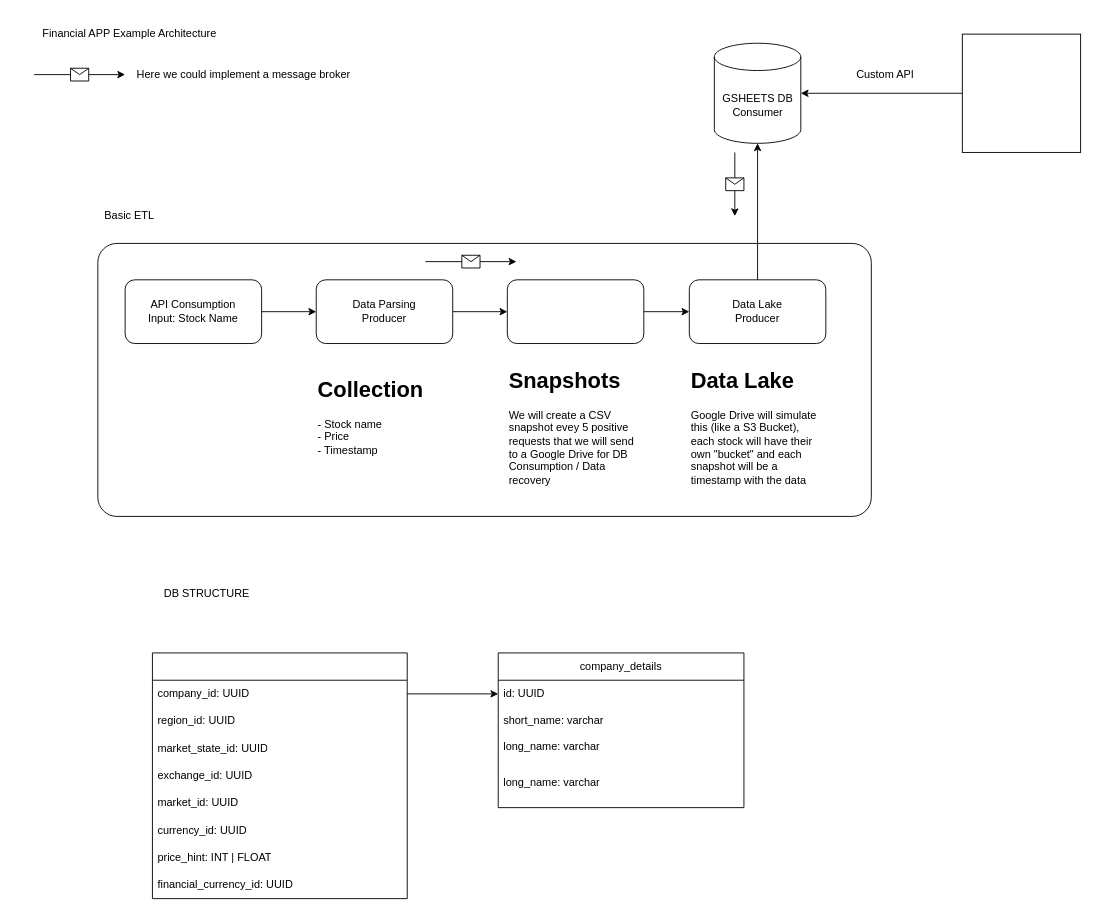
Image size: 1097x915. Some labels were removed from this diagram. The box of each missing label's shape, as (x1, y1, x2, y2) in pixels:
Front End App: (961, 33, 1081, 152)
Local Storage Consumer: (506, 279, 644, 344)
market_value: (152, 652, 407, 899)
